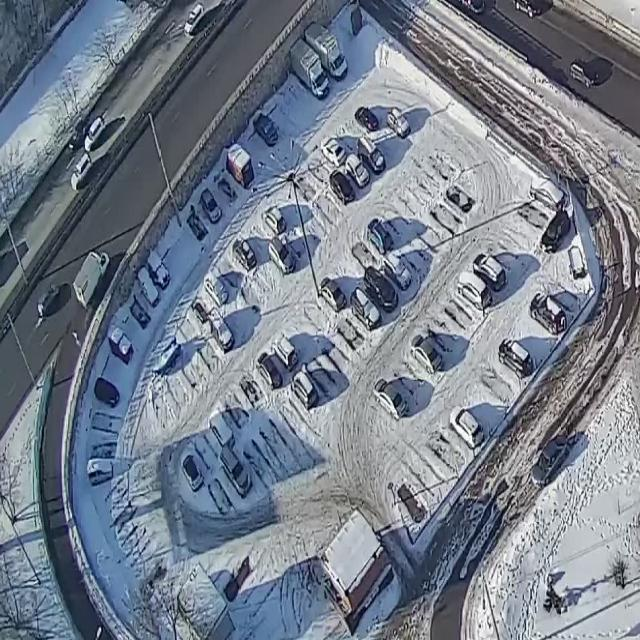car: (304, 20, 349, 85), (289, 34, 332, 102), (74, 241, 113, 312), (530, 432, 570, 494), (216, 444, 253, 500), (530, 290, 568, 342), (363, 262, 399, 315), (448, 404, 486, 452), (456, 267, 493, 316), (471, 248, 507, 298), (539, 210, 571, 262), (498, 338, 534, 383), (372, 377, 408, 422), (224, 142, 256, 192), (409, 333, 444, 378), (350, 286, 381, 335), (383, 248, 413, 294), (288, 366, 318, 412), (104, 323, 135, 367), (206, 408, 237, 452), (208, 307, 236, 355), (365, 216, 395, 260), (358, 133, 387, 178), (266, 233, 296, 276), (270, 330, 299, 374), (135, 266, 162, 313), (145, 248, 173, 292), (256, 348, 283, 393), (179, 450, 206, 495), (252, 109, 280, 151), (320, 274, 348, 316), (319, 131, 347, 170), (384, 101, 411, 141), (329, 168, 356, 208), (197, 186, 223, 227), (568, 56, 599, 90), (36, 280, 62, 320), (70, 151, 92, 197), (345, 152, 370, 192), (231, 235, 257, 273), (86, 455, 115, 489), (92, 377, 121, 411), (352, 104, 380, 138), (262, 200, 287, 238), (204, 270, 229, 308), (68, 108, 89, 153), (84, 113, 104, 154), (514, 0, 545, 23), (184, 4, 203, 40)
